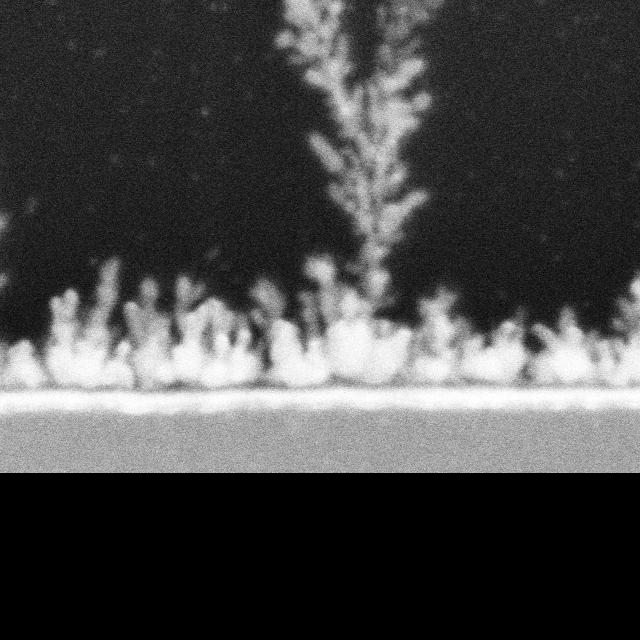Dendrite: (0, 259, 333, 387), (407, 290, 640, 386), (0, 198, 37, 296)
